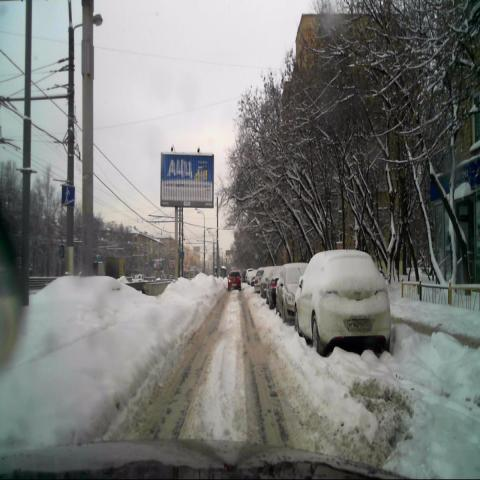6_6: (61, 184, 75, 206)
